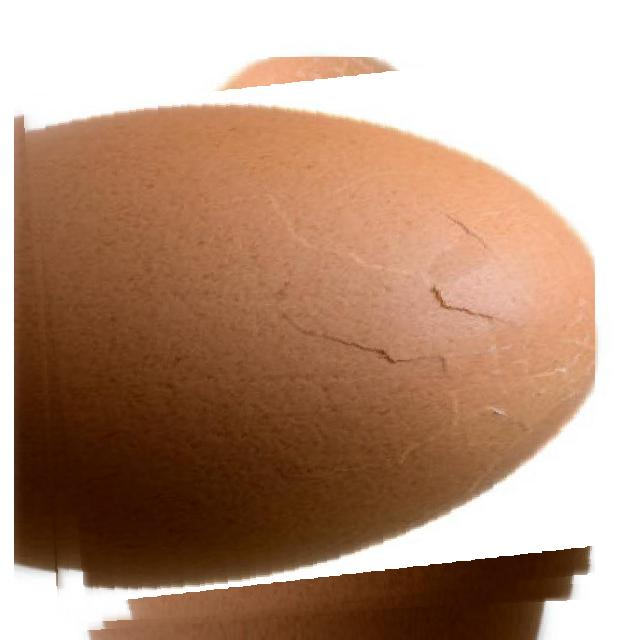biodegradable: (31, 57, 595, 623)
